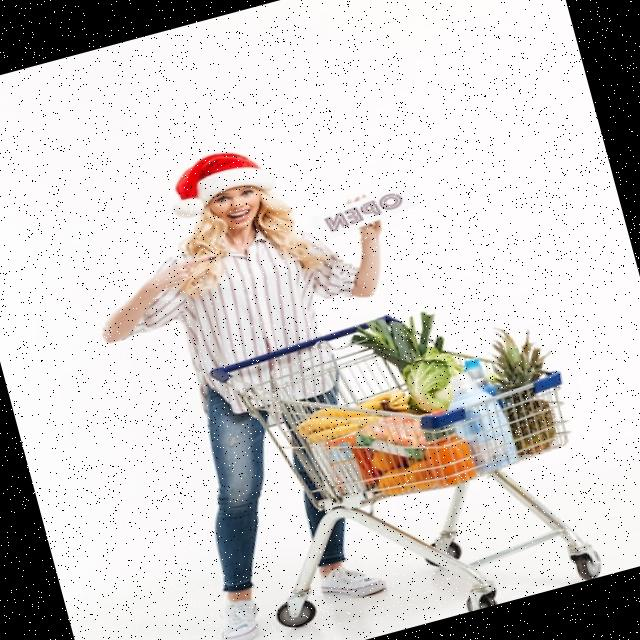Person: (65, 116, 477, 640)
